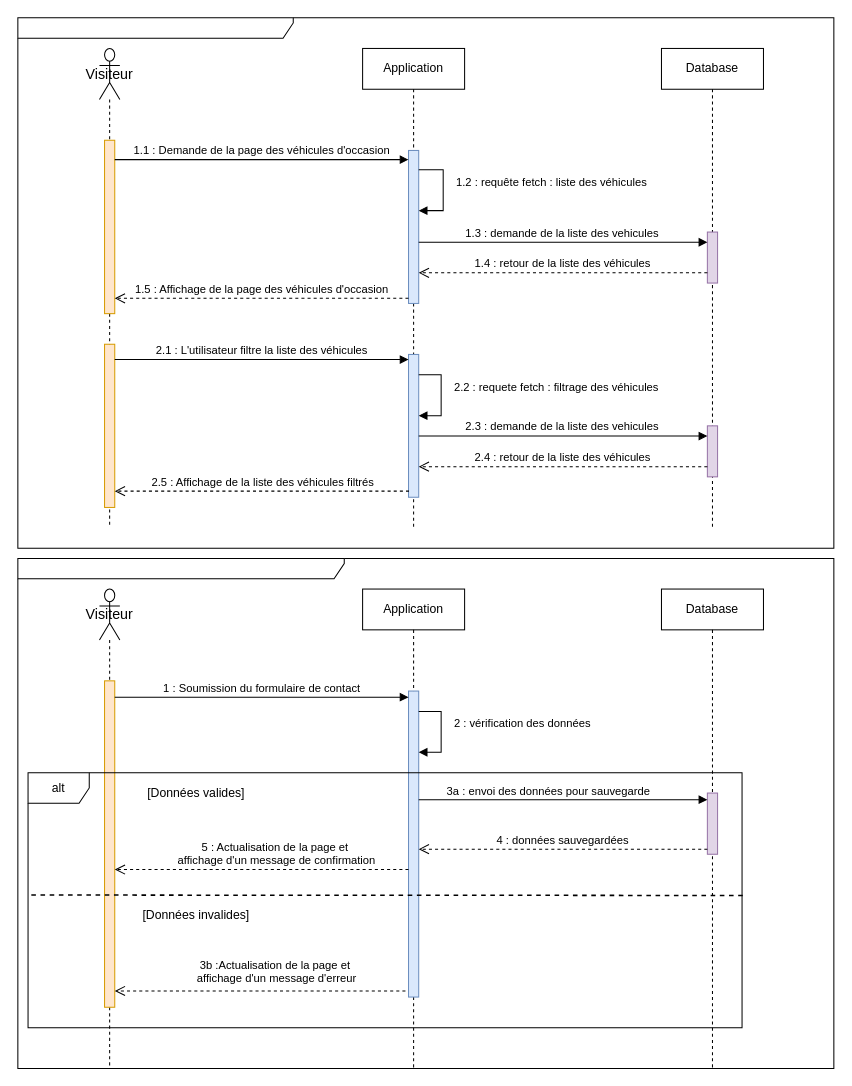
The diagram is 852 pixels wide and 1086 high, and some of its shapes have lost their labels. The shapes that lost their labels are listed below. From the top down, each one's box as (x1, y1, x2, y2) in pixels, then its label:
(17, 17, 834, 548): Affichage et filtrage de la liste des véhicules
(17, 557, 834, 1068): Soumission du formulaire de contact pour un véhicule
